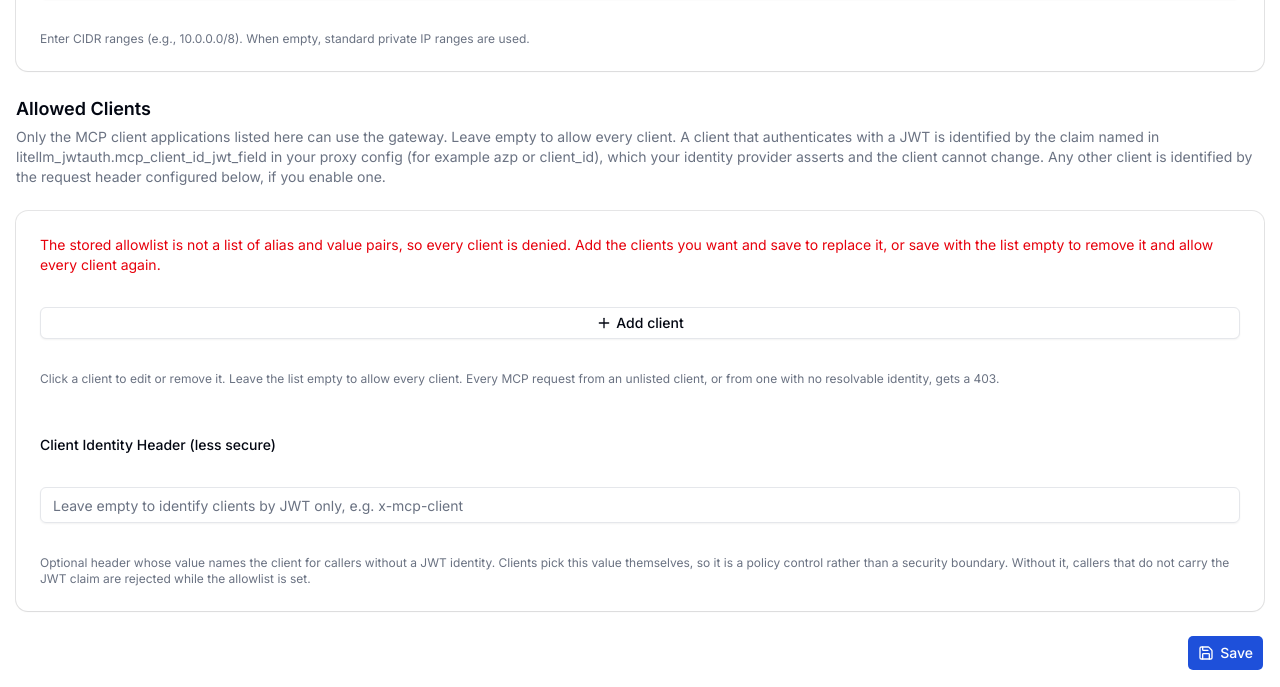
Test: MCPNetworkSettings › warns that a stored allowlist in the old plain-string shape denies every client and lets Save remove it
The image size is (1280, 687).
(page scrolled)
expect the text "stored allowlist is not a list of alias and value pairs" is shown: met, box x1=40 y1=236 x2=1213 y2=273
Click the button "Save". click: x=1226, y=653
box: x1=1187 y1=635 x2=1264 y2=671
(page scrolled)
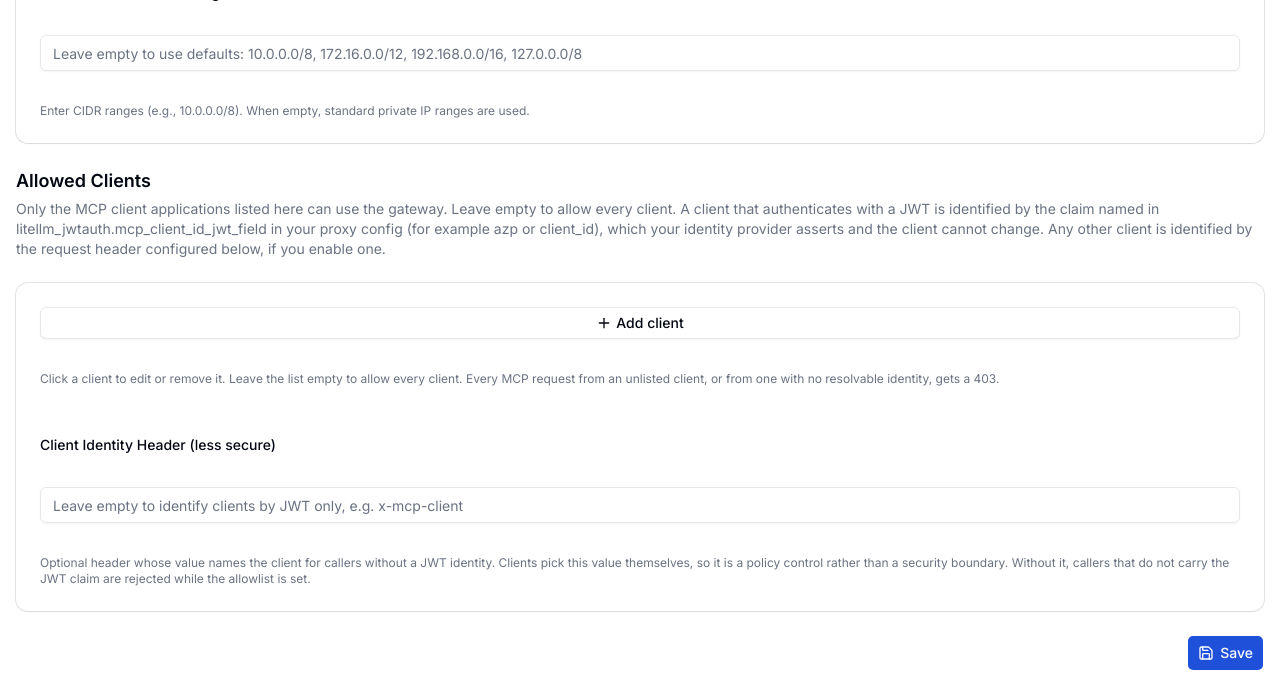
expect the text "stored allowlist is not a list" is gone: met
